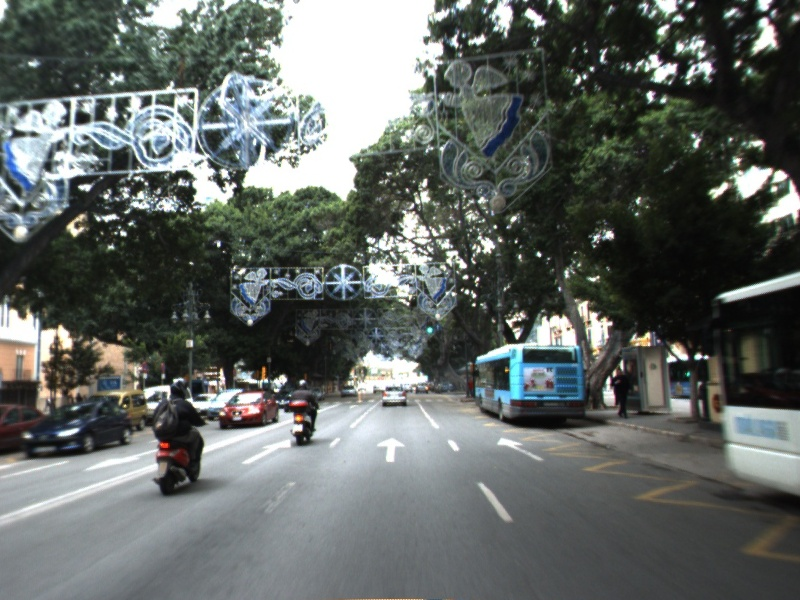STRAIGHT: (240, 437, 292, 466), (495, 435, 547, 463), (374, 435, 407, 463)
